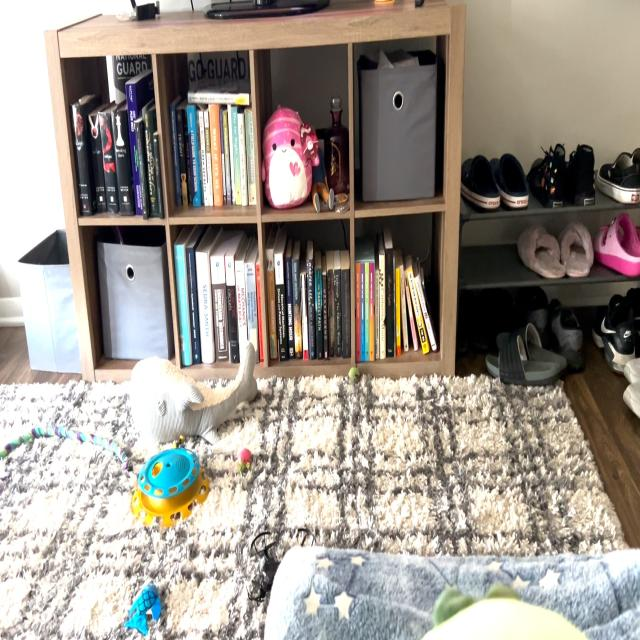drone: (240, 517, 321, 630)
